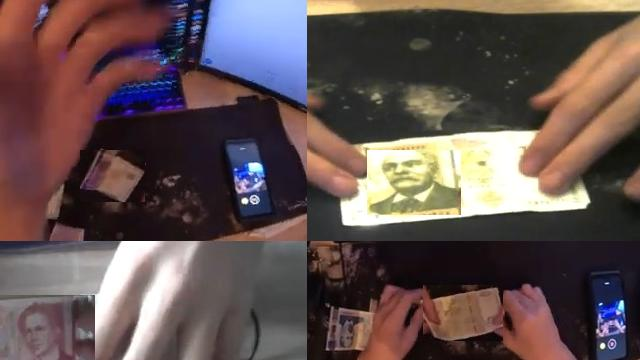10leva: (367, 150, 461, 215)
50leva: (423, 285, 503, 341), (80, 150, 145, 202)
5leva: (0, 295, 88, 360)
